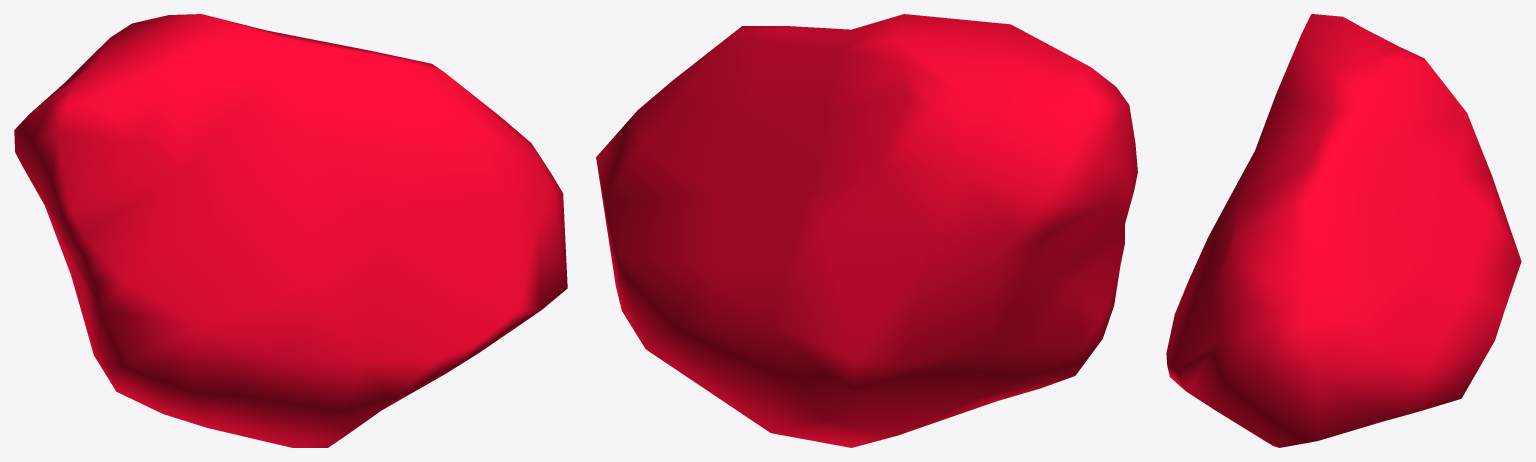
The picture shows the model from 3 angles, left to right: view 1: azimuth 30°, elevation 25°; view 2: azimuth 150°, elevation 25°; view 3: azimuth 270°, elevation 25°; orthographic projection. The views are drawn at different scales.
Parts seen in each view (by area): view 1: SM_CursedEssence_01_LOD0; view 2: SM_CursedEssence_01_LOD0; view 3: SM_CursedEssence_01_LOD0.
Part boxes in pixels (left/top/right/bottom): SM_CursedEssence_01_LOD0: left=14, top=14, right=567, bottom=447; SM_CursedEssence_01_LOD0: left=596, top=14, right=1137, bottom=447; SM_CursedEssence_01_LOD0: left=1166, top=14, right=1521, bottom=447.
Bounding box in the file's own units: 0.2272 × 0.1765 × 0.1627.
